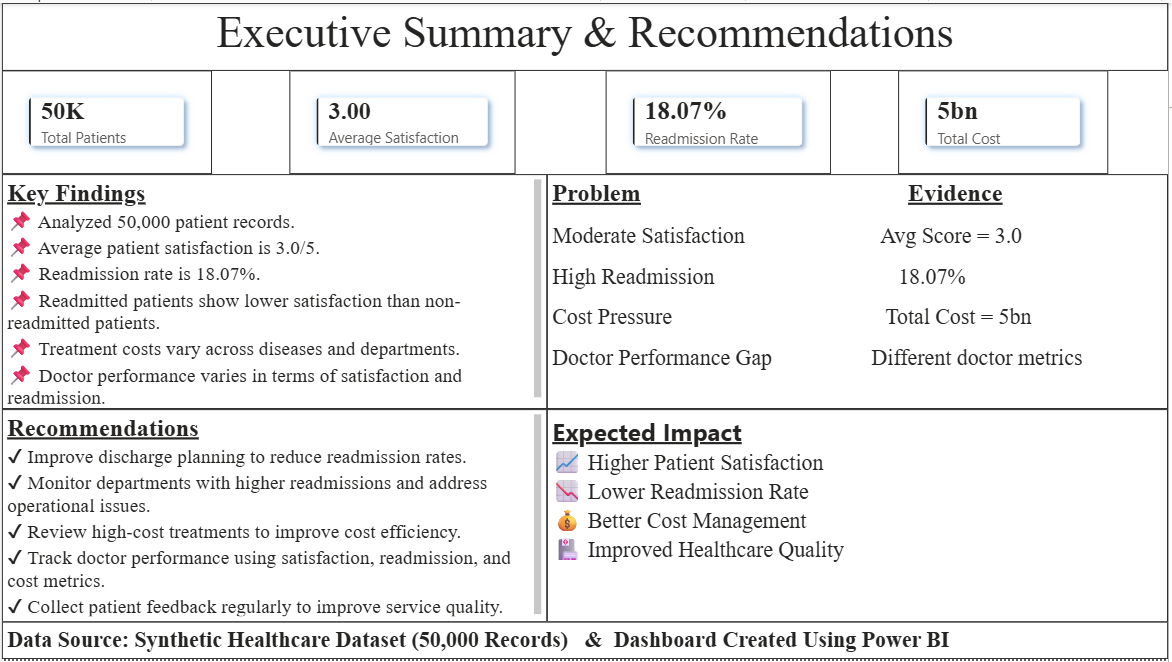

This screenshot's page, from the dashboard's own definition file:
{"tool":"powerbi","page":{"name":"              Executive Summary","canvas":[1280,720],"ordinal":4},"visuals":[{"type":"cardVisual","fields":{"Data":["Hospital_Patient_Dataset_50000.Total_Patient"]},"box":[0,74.1,230.5,113.9],"z":0},{"type":"cardVisual","fields":{"Data":["Hospital_Patient_Dataset_50000.Avgerage Satisfactions"]},"box":[315.6,74.1,248.4,113.9],"z":1000},{"type":"textbox","box":[0,0,1280.3,74.1],"z":2000},{"type":"cardVisual","fields":{"Data":["Hospital_Patient_Dataset_50000.Readmission Rate"]},"box":[662.8,74.1,247,113.9],"z":3000},{"type":"cardVisual","fields":{"Data":["Hospital_Patient_Dataset_50000.Avg Cost"]},"box":[983.9,74.1,230.5,113.9],"z":4000},{"type":"textbox","box":[0,188,598.3,258],"z":5000},{"type":"textbox","box":[598.3,188,682,258],"z":6000},{"type":"textbox","box":[0,446,598.3,233.3],"z":6001},{"type":"textbox","box":[598.3,446,682,233.3],"z":6002},{"type":"textbox","box":[0,679.2,1280.3,41.2],"z":6003}]}

Visuals, with their boxes in screenshot pixels (x1, y1, x2, y2), scaled from the page's 1280x720 canvas onto the 1172x662 screenshot:
cardVisual - Hospital_Patient_Dataset_50000.Total_Patient: x1=0, y1=68, x2=211, y2=173
cardVisual - Hospital_Patient_Dataset_50000.Avgerage Satisfactions: x1=289, y1=68, x2=516, y2=173
textbox: x1=0, y1=0, x2=1171, y2=68
cardVisual - Hospital_Patient_Dataset_50000.Readmission Rate: x1=607, y1=68, x2=833, y2=173
cardVisual - Hospital_Patient_Dataset_50000.Avg Cost: x1=901, y1=68, x2=1112, y2=173
textbox: x1=0, y1=173, x2=548, y2=410
textbox: x1=548, y1=173, x2=1171, y2=410
textbox: x1=0, y1=410, x2=548, y2=625
textbox: x1=548, y1=410, x2=1171, y2=625
textbox: x1=0, y1=624, x2=1171, y2=661
